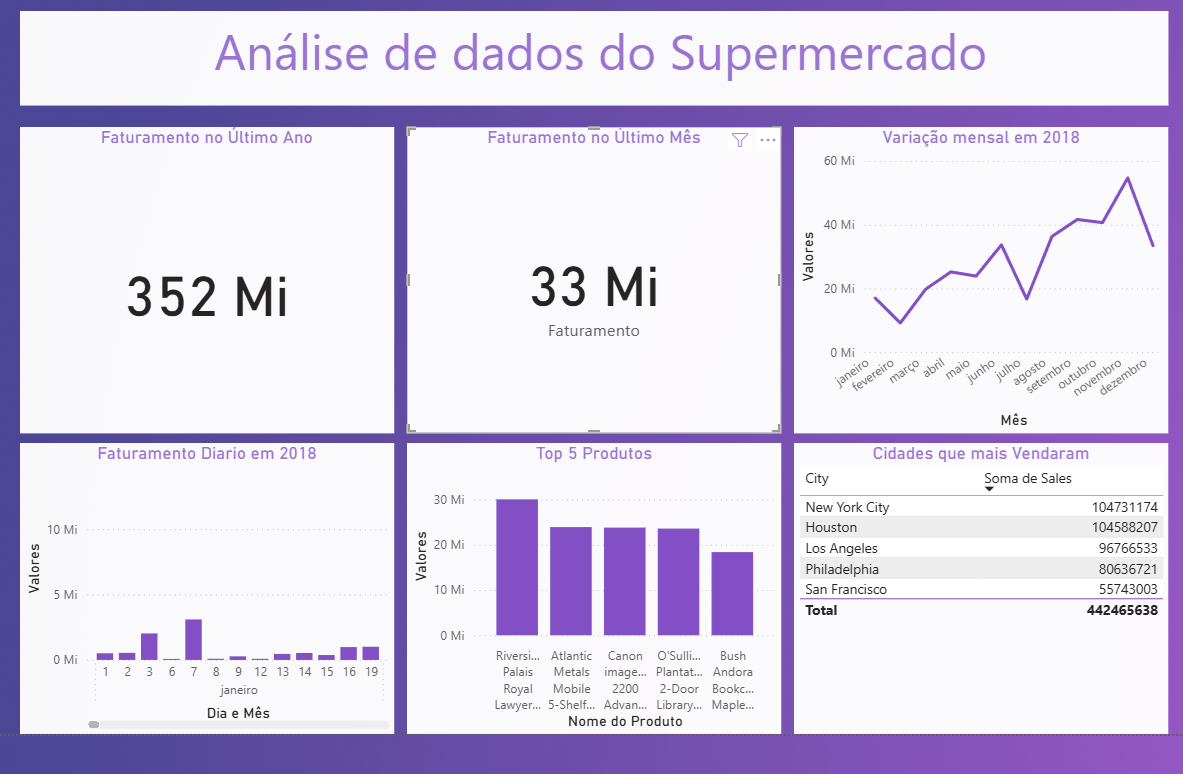

Layout of this report page (visuals, bound fields, positions):
{"tool":"powerbi","page":{"name":"Página 1","canvas":[1280,720],"ordinal":0},"visuals":[{"type":"card","title":"Faturamento no Último Ano","fields":{"Values":["Sum(train.Sales)"]},"box":[129.4,129.4,363.8,297.6],"z":0},{"type":"textbox","box":[129.4,16.5,1116.6,92.4],"z":1000},{"type":"actionButton","box":[0,0,100,40],"z":2000},{"type":"card","title":"Faturamento no Último Mês","fields":{"Values":["Sum(train.Sales)","select","select1"]},"box":[506,129,364,298],"z":3000},{"type":"lineChart","title":"Variação mensal em 2018","fields":{"Y":["Sum(train.Sales)"],"Category":["train.Order Date.Variation.Hierarquia de datas.Mês"]},"box":[882,129,364,298],"z":4000},{"type":"columnChart","title":"Faturamento Diário em 2018","fields":{"Y":["Sum(train.Sales)"],"Category":["train.Order Date.Variation.Hierarquia de datas.Mês","train.Order Date.Variation.Hierarquia de datas.Dia"]},"box":[129,437,364,283],"z":5000},{"type":"tableEx","title":"Cidades que mais Vendaram","fields":{"Values":["train.City","Sum(train.Sales)"]},"box":[882,437,364,283],"z":6000},{"type":"columnChart","title":"Top 5 Produtos","fields":{"Y":["Sum(train.Sales)"],"Category":["train.Product Name"]},"box":[506,437,364,283],"z":7000}]}

Visuals, with their boxes on the page's 1280x720 design canvas (x1, y1, x2, y2). These are canvas units, not pixel positions in the 1183x774 screenshot, which may show the page scaled, cropped or inside an application window:
"Faturamento no Último Ano" card: 129,129,493,427
textbox: 129,16,1246,109
actionButton: 0,0,100,40
"Faturamento no Último Mês" card: 506,129,870,427
"Variação mensal em 2018" lineChart: 882,129,1246,427
"Faturamento Diário em 2018" columnChart: 129,437,493,720
"Cidades que mais Vendaram" tableEx: 882,437,1246,720
"Top 5 Produtos" columnChart: 506,437,870,720
